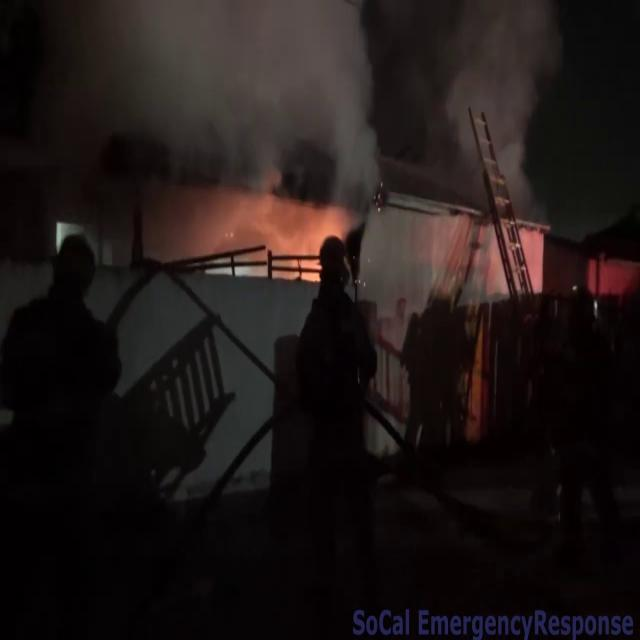Smoke: (41, 1, 390, 210)
